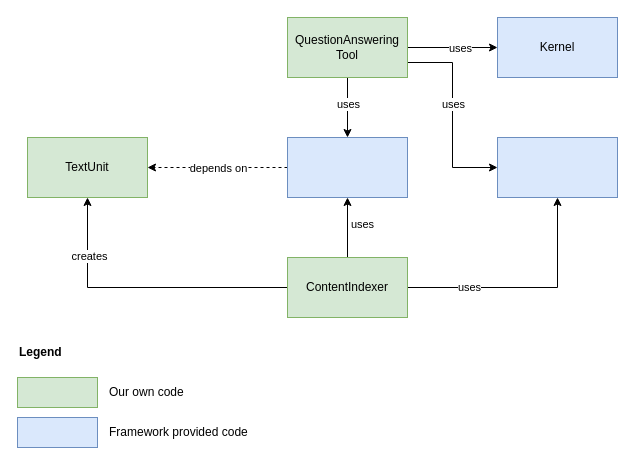
Some shapes in this 635 by 465 pixel diagram are drawn without their labels. Here are the shapes that lost their labels. From the top down, the centre of each, then its label:
At [347,167]: "IVectorStore".
At [557,167]: "EmbeddingService".
